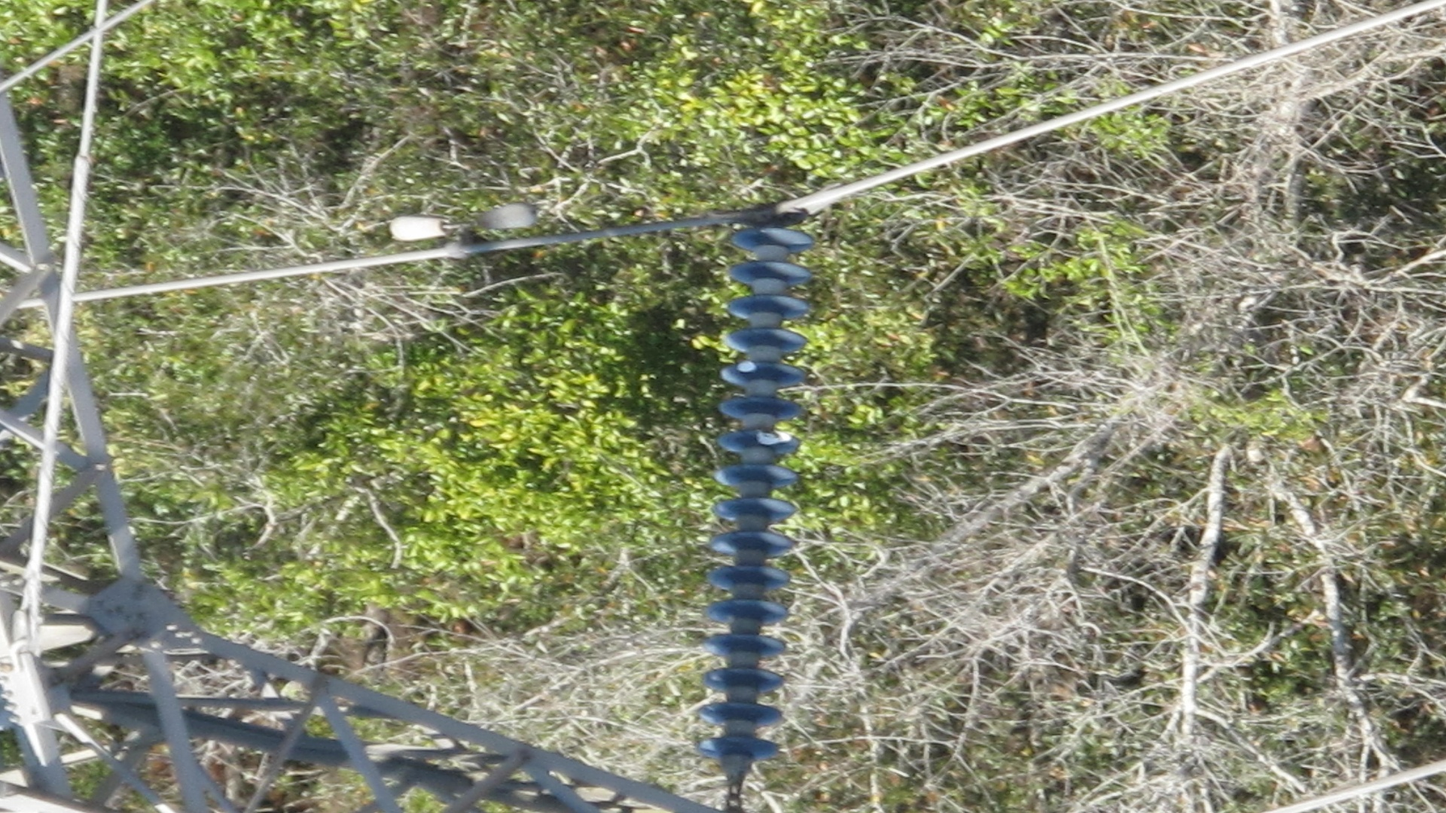insulator: (691, 224, 819, 770)
insulator_breakage: (753, 426, 797, 448), (731, 358, 762, 377)
